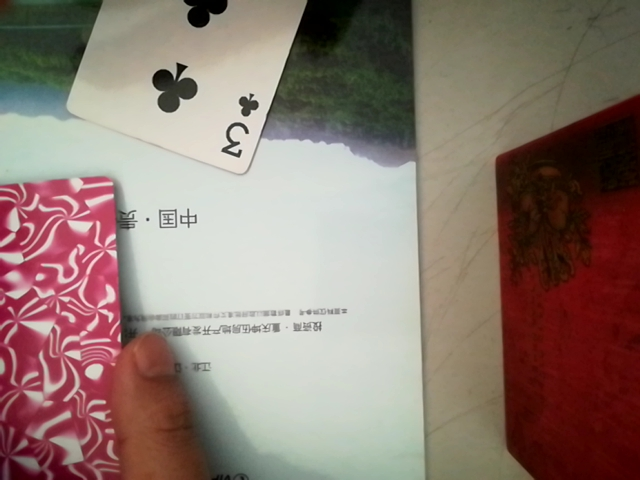mh 3: (40, 0, 356, 173)
